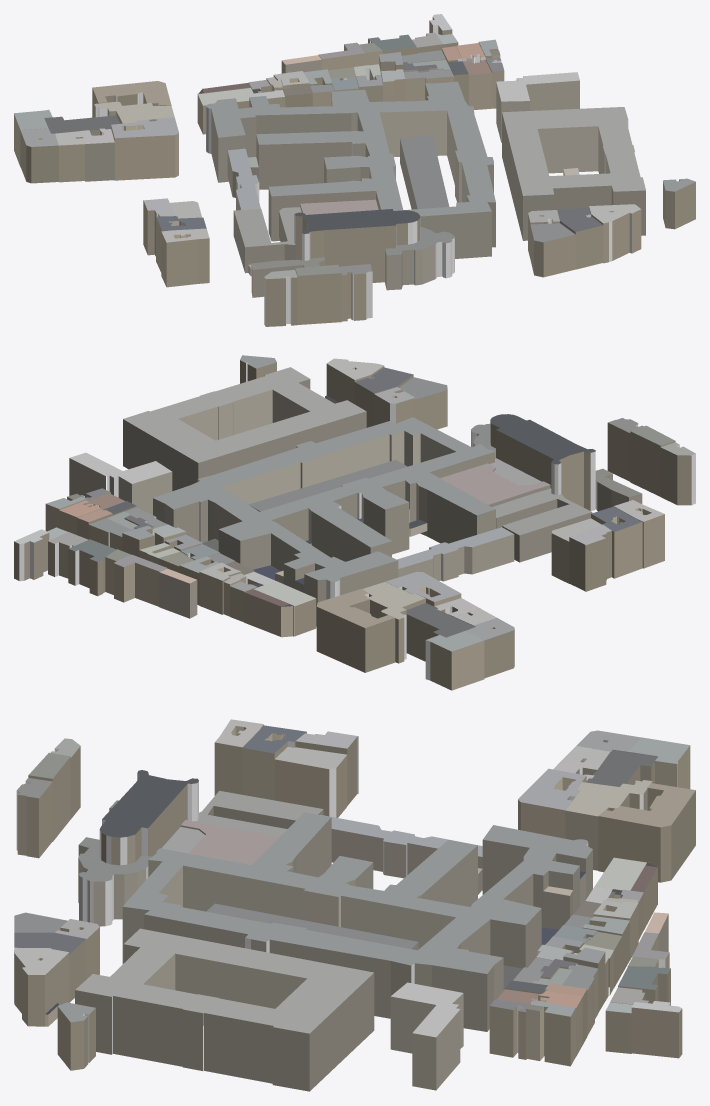
The picture shows the model from 3 angles, top to bottom: view 1: azimuth 30°, elevation 25°; view 2: azimuth 150°, elevation 25°; view 3: azimuth 270°, elevation 25°; orthographic projection. The views are drawn at different scales.
Parts seen in each view (by area): view 1: tuile; view 2: tuile; view 3: tuile.
Boxes of the visible parts, x1=… form: tuile: x1=14, y1=14, x2=695, y2=326; tuile: x1=14, y1=355, x2=695, y2=690; tuile: x1=14, y1=719, x2=695, y2=1091.
Size of the model in its own units: 284 by 34.39 by 266.
